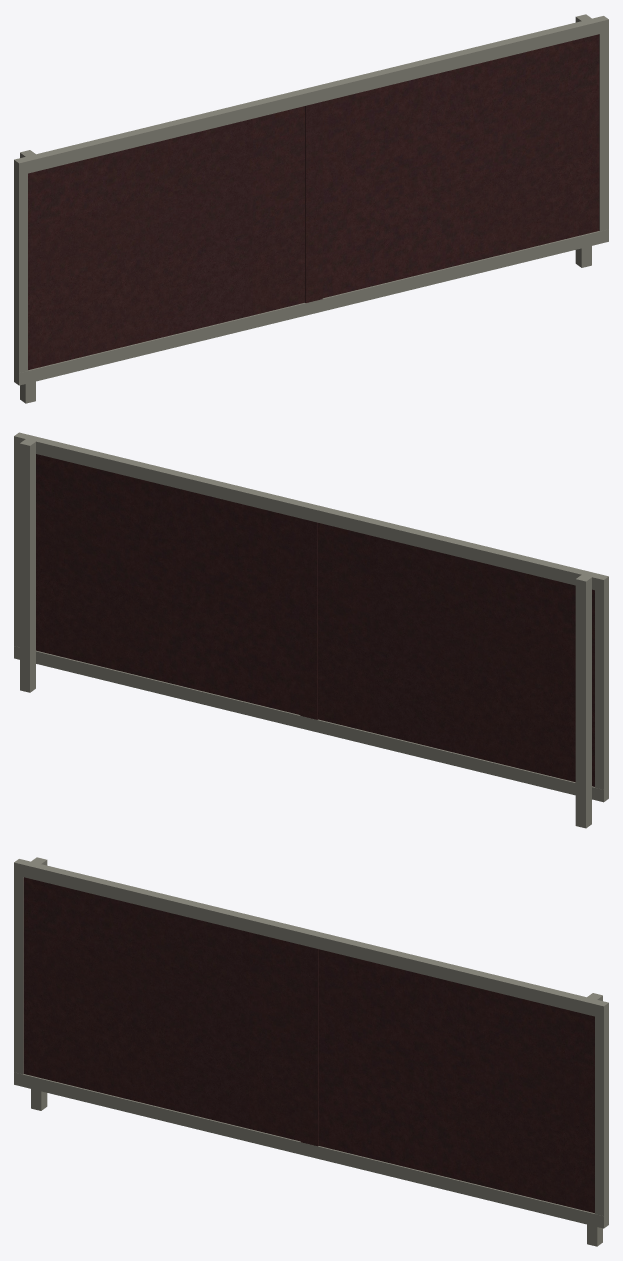
Rendered from EAFboarddesignryoumen_w1998-h720_rustycopper.fbx.
The picture shows the model from 3 angles, top to bottom: view 1: azimuth 30°, elevation 25°; view 2: azimuth 150°, elevation 25°; view 3: azimuth 330°, elevation 25°; orthographic projection.
Visible parts, largest first — view 1: EAFboarddesignryoumen_w1998-h720_rustycopper; view 2: EAFboarddesignryoumen_w1998-h720_rustycopper; view 3: EAFboarddesignryoumen_w1998-h720_rustycopper.
Part boxes in pixels (x1,y1,x2,y2): EAFboarddesignryoumen_w1998-h720_rustycopper: (14, 14, 608, 403); EAFboarddesignryoumen_w1998-h720_rustycopper: (14, 432, 608, 828); EAFboarddesignryoumen_w1998-h720_rustycopper: (14, 857, 608, 1246).
Size of the model in its own units: 200 by 80 by 6.5.
4 materials, 4 textured.
